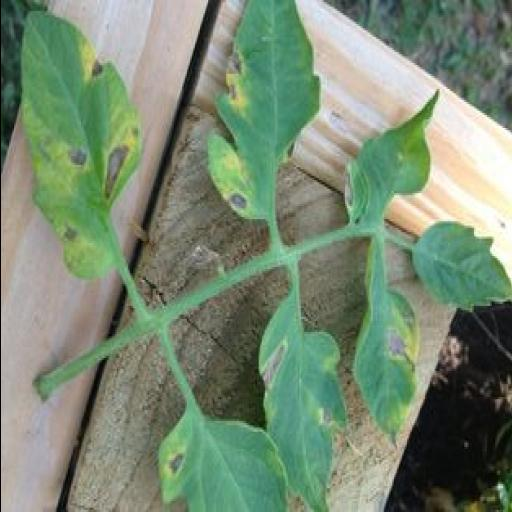Early Blight: (20, 20, 142, 276), (206, 0, 318, 228), (256, 284, 348, 512), (352, 250, 416, 456)
